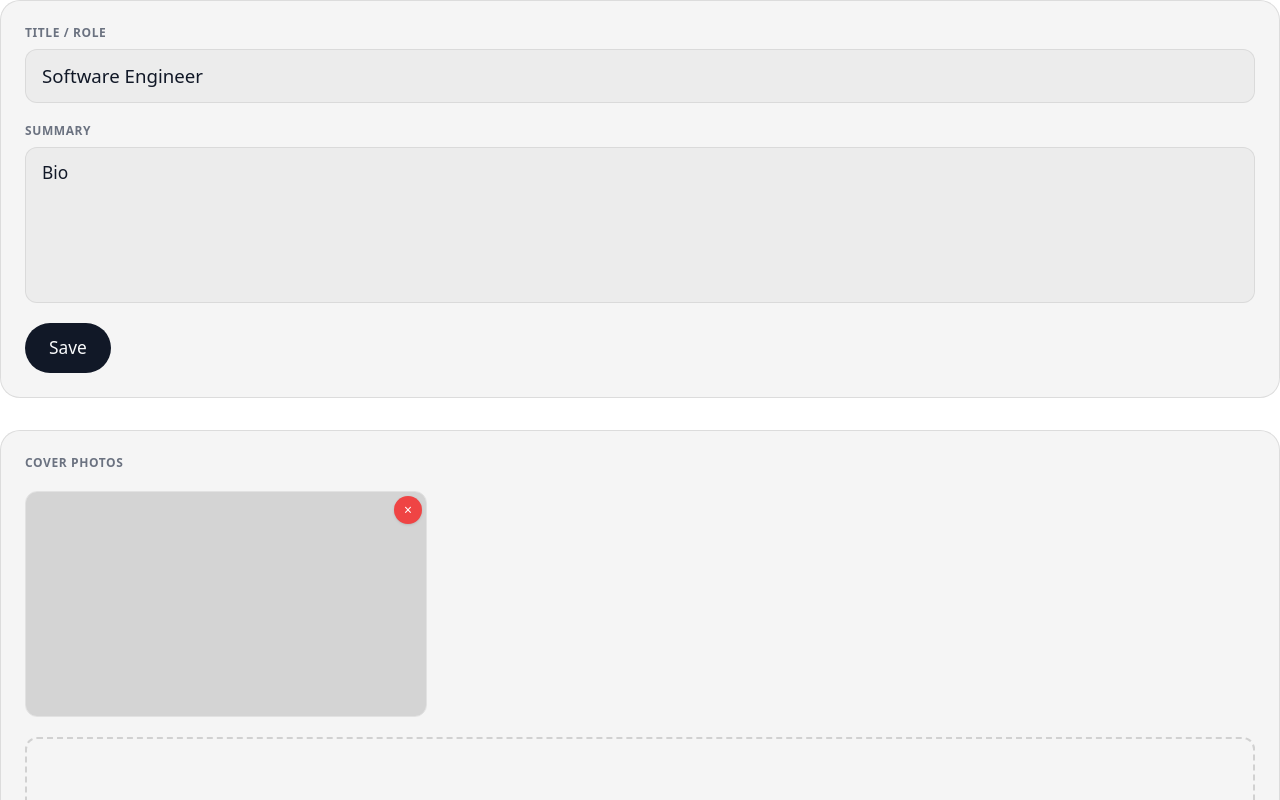
Test case: IntroEditorForm - cover delete › removes the cover on a successful delete
Step 1. Click the button named "delete cover" → (408,510), box [394,496,422,524]
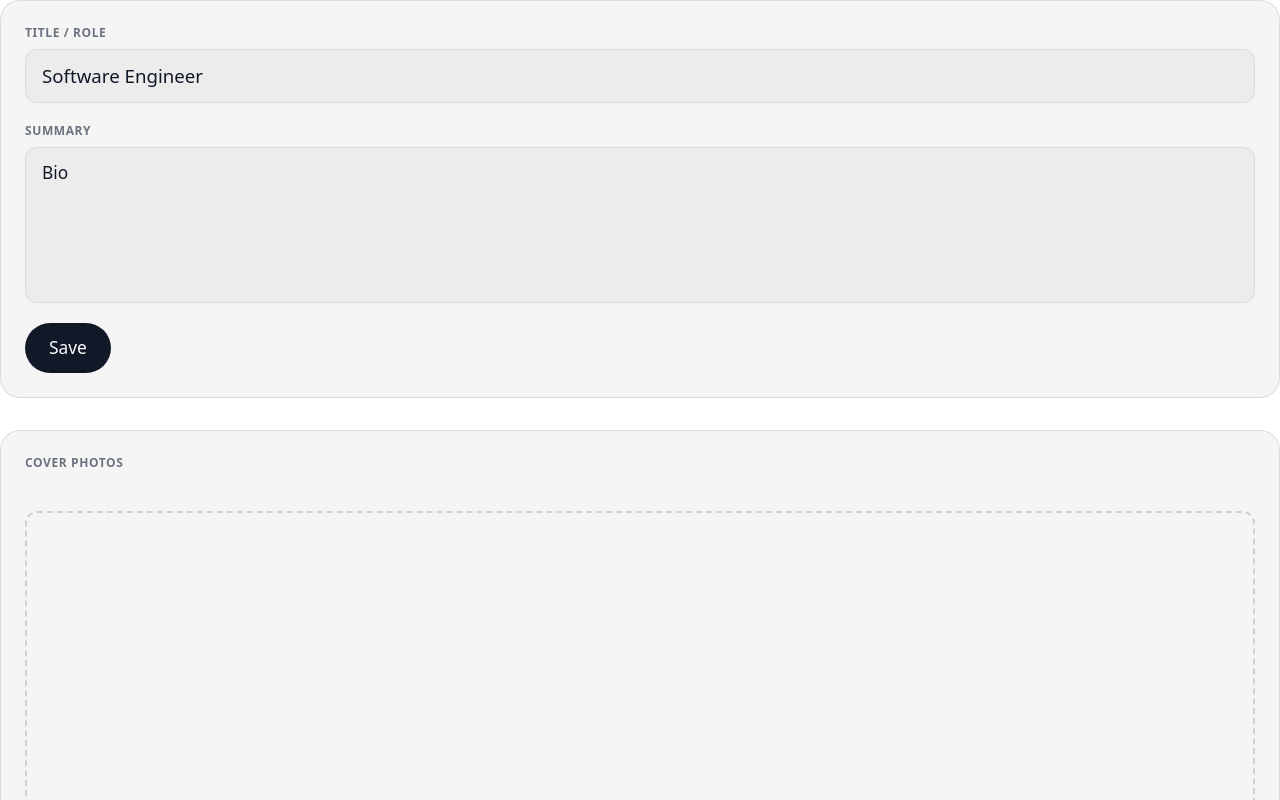
Expected: the picture "delete cover" is gone
